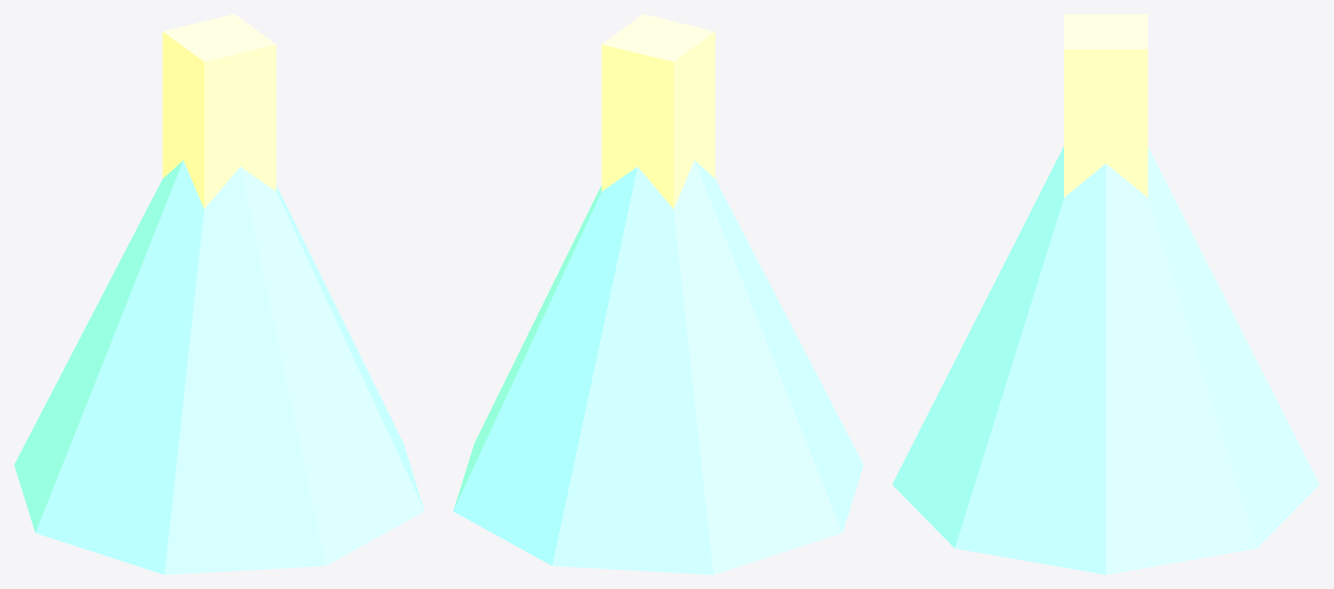
Rendered from lantern_core.glb.
3 views of the same model, side by side, from view 1: azimuth 30°, elevation 25°; view 2: azimuth 150°, elevation 25°; view 3: azimuth 270°, elevation 25° (orthographic).
Visible parts, largest first — view 1: lantern_core; view 2: lantern_core; view 3: lantern_core.
Part boxes in pixels (x1,y1,x2,y2): lantern_core: [14, 14, 424, 574]; lantern_core: [453, 14, 863, 574]; lantern_core: [892, 14, 1319, 574].
Bounding box in the file's own units: 0.92 × 1.15 × 0.92.
Materials: 2 (2 with a texture image).
